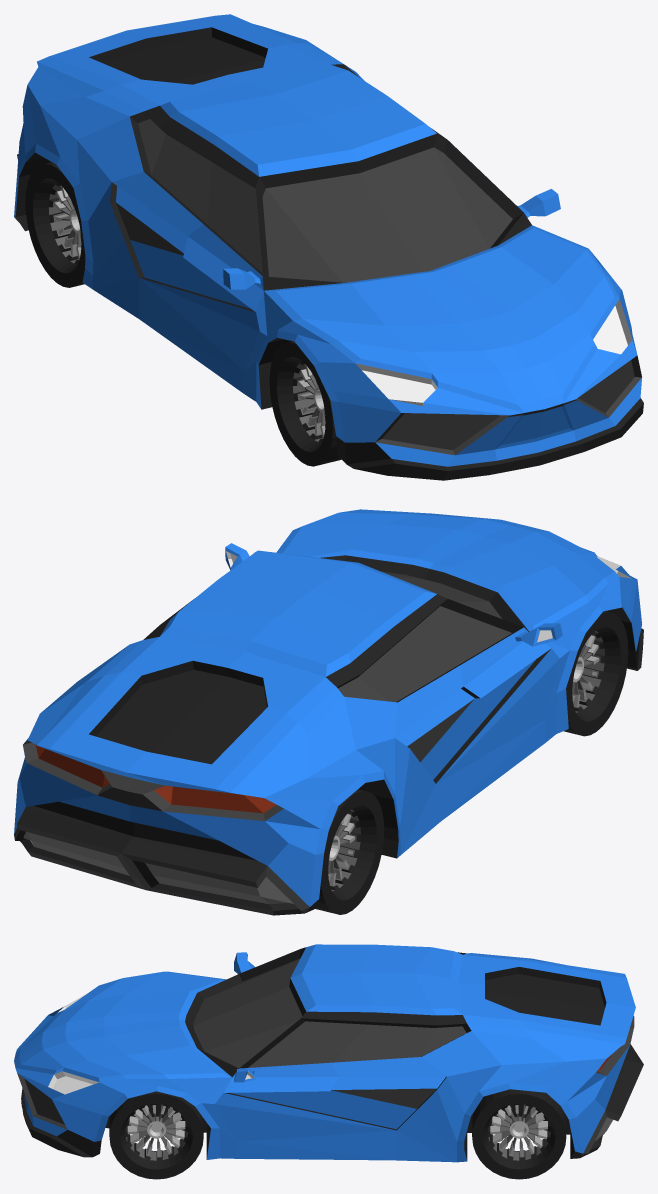
The model's file is lamborghiniasterion.fbx.
The picture shows the model from 3 angles, top to bottom: view 1: azimuth 30°, elevation 25°; view 2: azimuth 150°, elevation 25°; view 3: azimuth 270°, elevation 25°; orthographic projection. The views are drawn at different scales.
Visible parts, largest first — view 1: BlueBody, FrontRight, BackRight; view 2: BlueBody, BackRight, FrontRight; view 3: BlueBody, BackLeft, FrontLeft.
Boxes of the visible parts, x1,y1,x2,y2 form: BlueBody: (14, 14, 643, 480); FrontRight: (269, 341, 341, 466); BackRight: (25, 162, 85, 287); BlueBody: (14, 509, 643, 915); BackRight: (316, 789, 384, 914); FrontRight: (564, 611, 628, 736); BlueBody: (14, 944, 643, 1162); BackLeft: (472, 1089, 566, 1179); FrontLeft: (109, 1091, 203, 1179).
Size of the model in its own units: 2.12 by 4.71 by 1.27.
